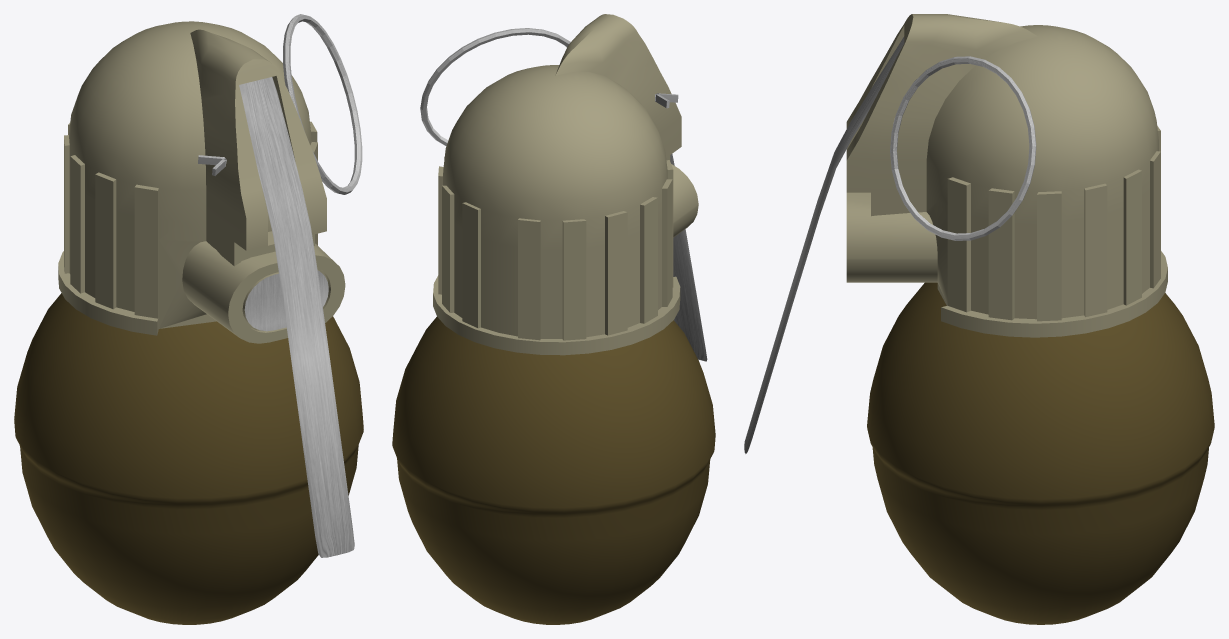
The model's file is RGN.obj.
The picture shows the model from 3 angles, left to right: view 1: azimuth 30°, elevation 25°; view 2: azimuth 150°, elevation 25°; view 3: azimuth 270°, elevation 25°; orthographic projection. The views are drawn at different scales.
Visible parts, largest first — view 1: Sphere, Sphere.001_Sphere.002, Plane, Torus; view 2: Sphere, Sphere.001_Sphere.002, Plane, Torus; view 3: Sphere, Sphere.001_Sphere.002, Torus, Plane.
Boxes of the visible parts, <box> form: Sphere: <box>14,293,363,624</box>; Sphere.001_Sphere.002: <box>58,21,345,343</box>; Plane: <box>239,77,354,557</box>; Torus: <box>198,14,362,194</box>; Sphere: <box>392,317,715,624</box>; Sphere.001_Sphere.002: <box>433,14,698,355</box>; Plane: <box>670,154,707,361</box>; Torus: <box>420,28,678,145</box>; Sphere: <box>867,282,1214,624</box>; Sphere.001_Sphere.002: <box>846,14,1167,337</box>; Torus: <box>890,56,1036,240</box>; Plane: <box>744,36,904,453</box>.
Bounding box in the file's own units: 1.58 × 2.97 × 2.13.
4 materials, 3 textured.
